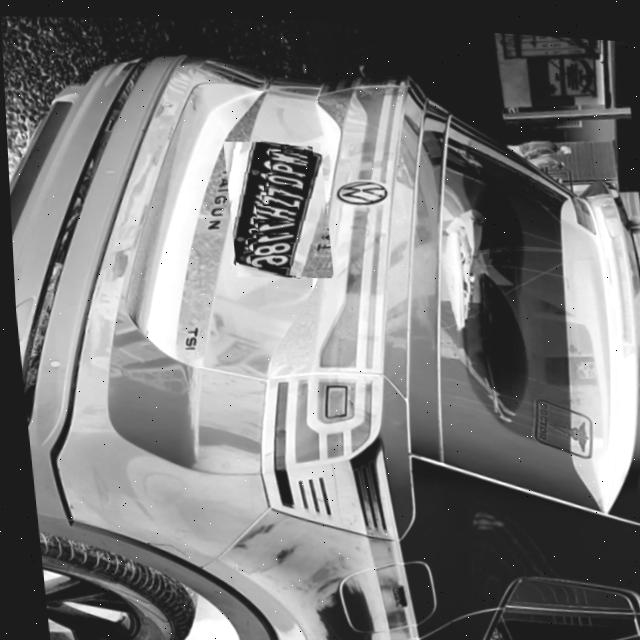0: (264, 169, 301, 186)
1: (254, 216, 293, 230), (253, 229, 291, 242)
7: (263, 178, 301, 198)
8: (249, 237, 289, 255)
9: (246, 249, 287, 266)
H: (256, 200, 295, 220)
IND: (278, 141, 311, 159)
Indian_registered: (230, 138, 317, 272)
M: (267, 148, 306, 168)
P: (268, 158, 304, 176)
Z: (258, 189, 298, 209)
